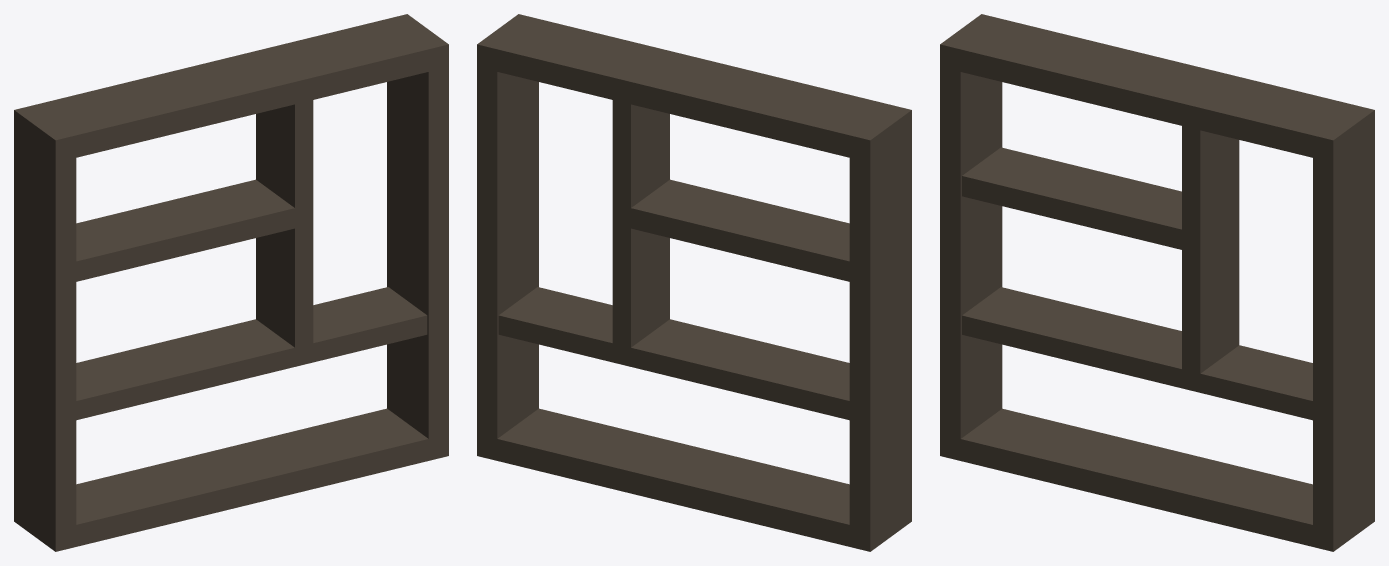
Rendered from B3_BottleShelf.fbx.
3 views of the same model, side by side, from view 1: azimuth 30°, elevation 25°; view 2: azimuth 150°, elevation 25°; view 3: azimuth 330°, elevation 25° (orthographic).
Parts seen in each view (by area): view 1: pCube1; view 2: pCube1; view 3: pCube1.
Boxes of the visible parts, bbox=[...] form: pCube1: bbox=[14, 14, 448, 551]; pCube1: bbox=[477, 14, 911, 551]; pCube1: bbox=[940, 14, 1374, 551].
Size of the model in its own units: 1.01 by 1.01 by 0.1857.
